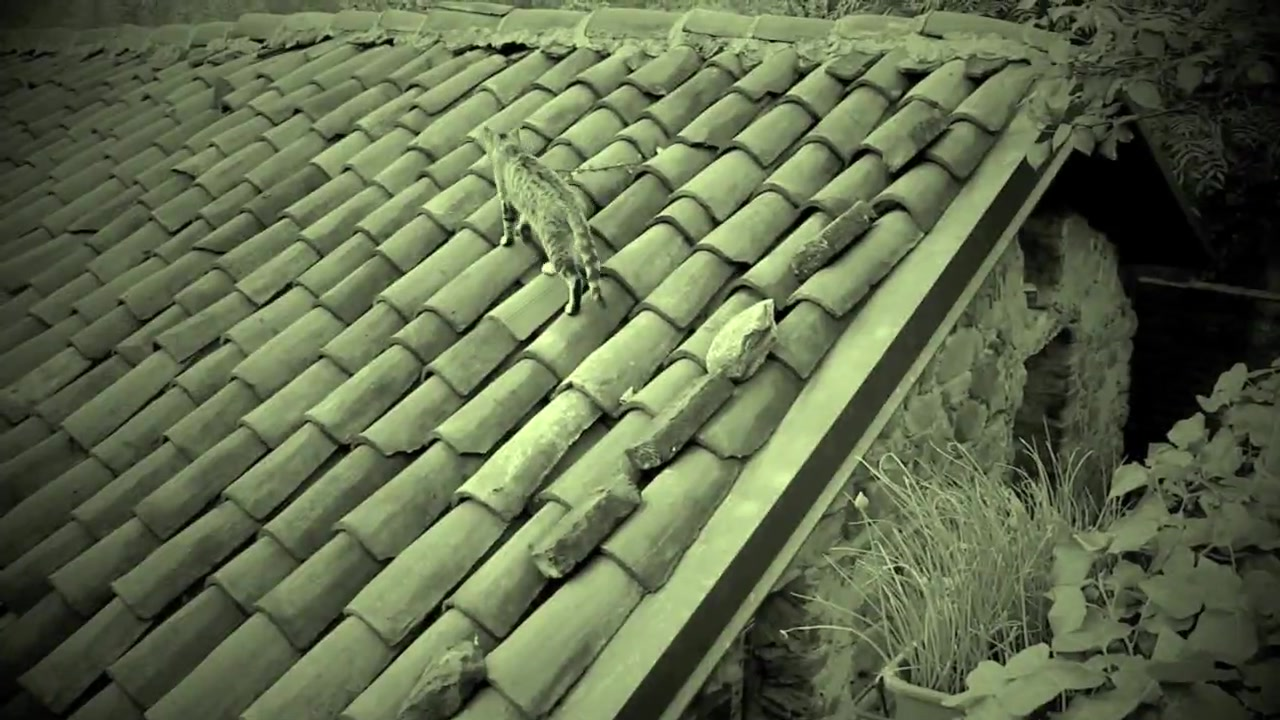cat: (480, 122, 612, 316)
